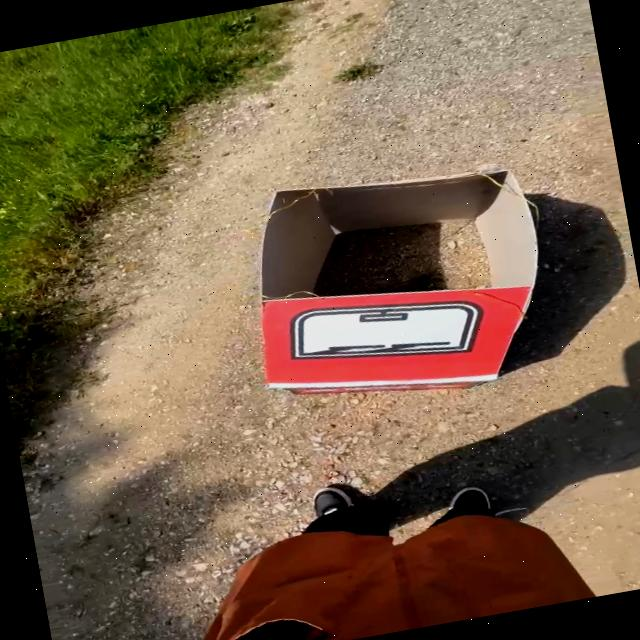red_car: (138, 116, 640, 466)
